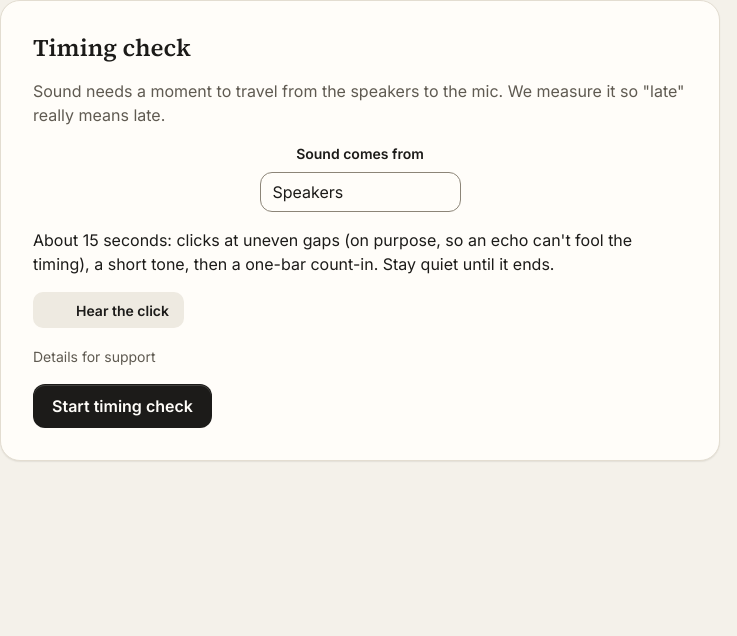
Scenario: CalibrationCard › Not really suggests the Woodblock or Beep sound
What coordinates should you click on to do the following:
click the button "Start timing check"
I would click on:
 (122, 406)
Its box is [33,384,212,428].
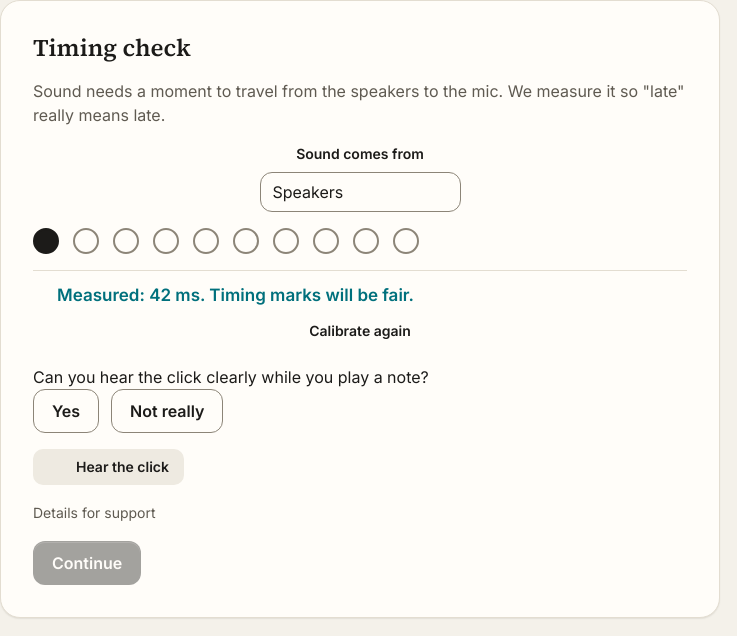
What coordinates should you click on to do the following:
click the button "Not really"
I would click on:
 (167, 410)
Its box is [111,388,223,432].
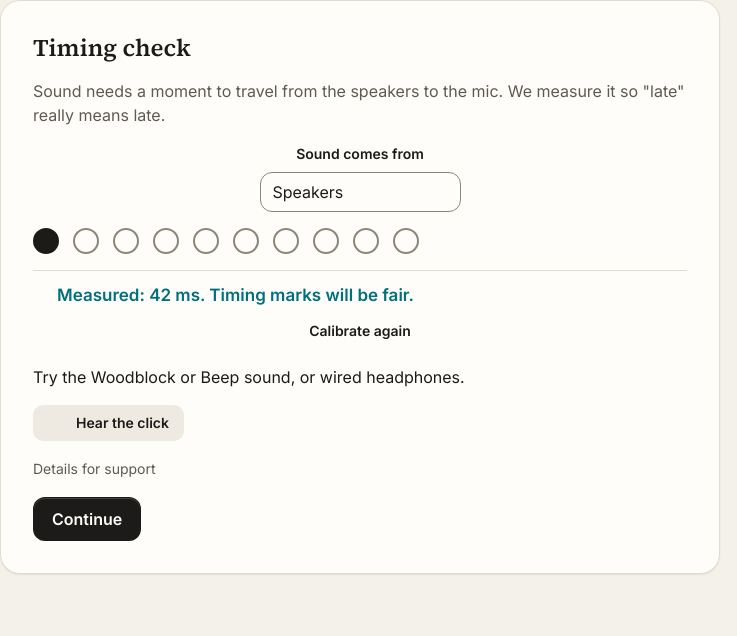
Expected: the text "Try the Woodblock or Beep sound, or wired headphones." is shown, [33,366,465,386]
